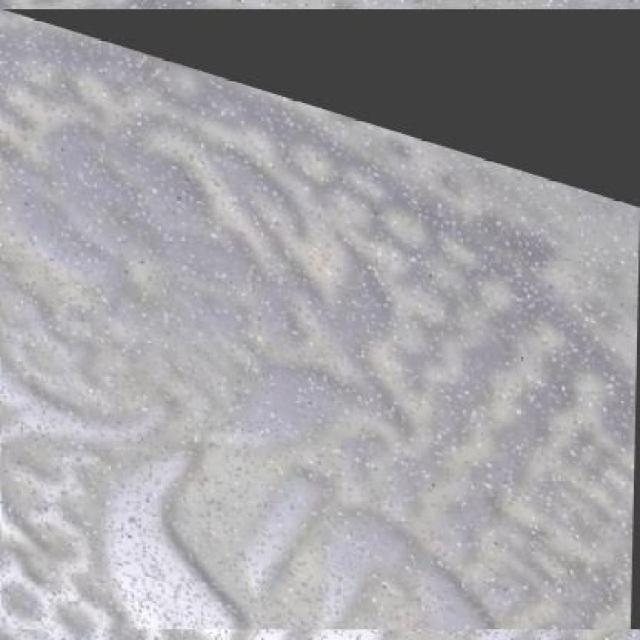Manhole: (1, 9, 640, 629)
